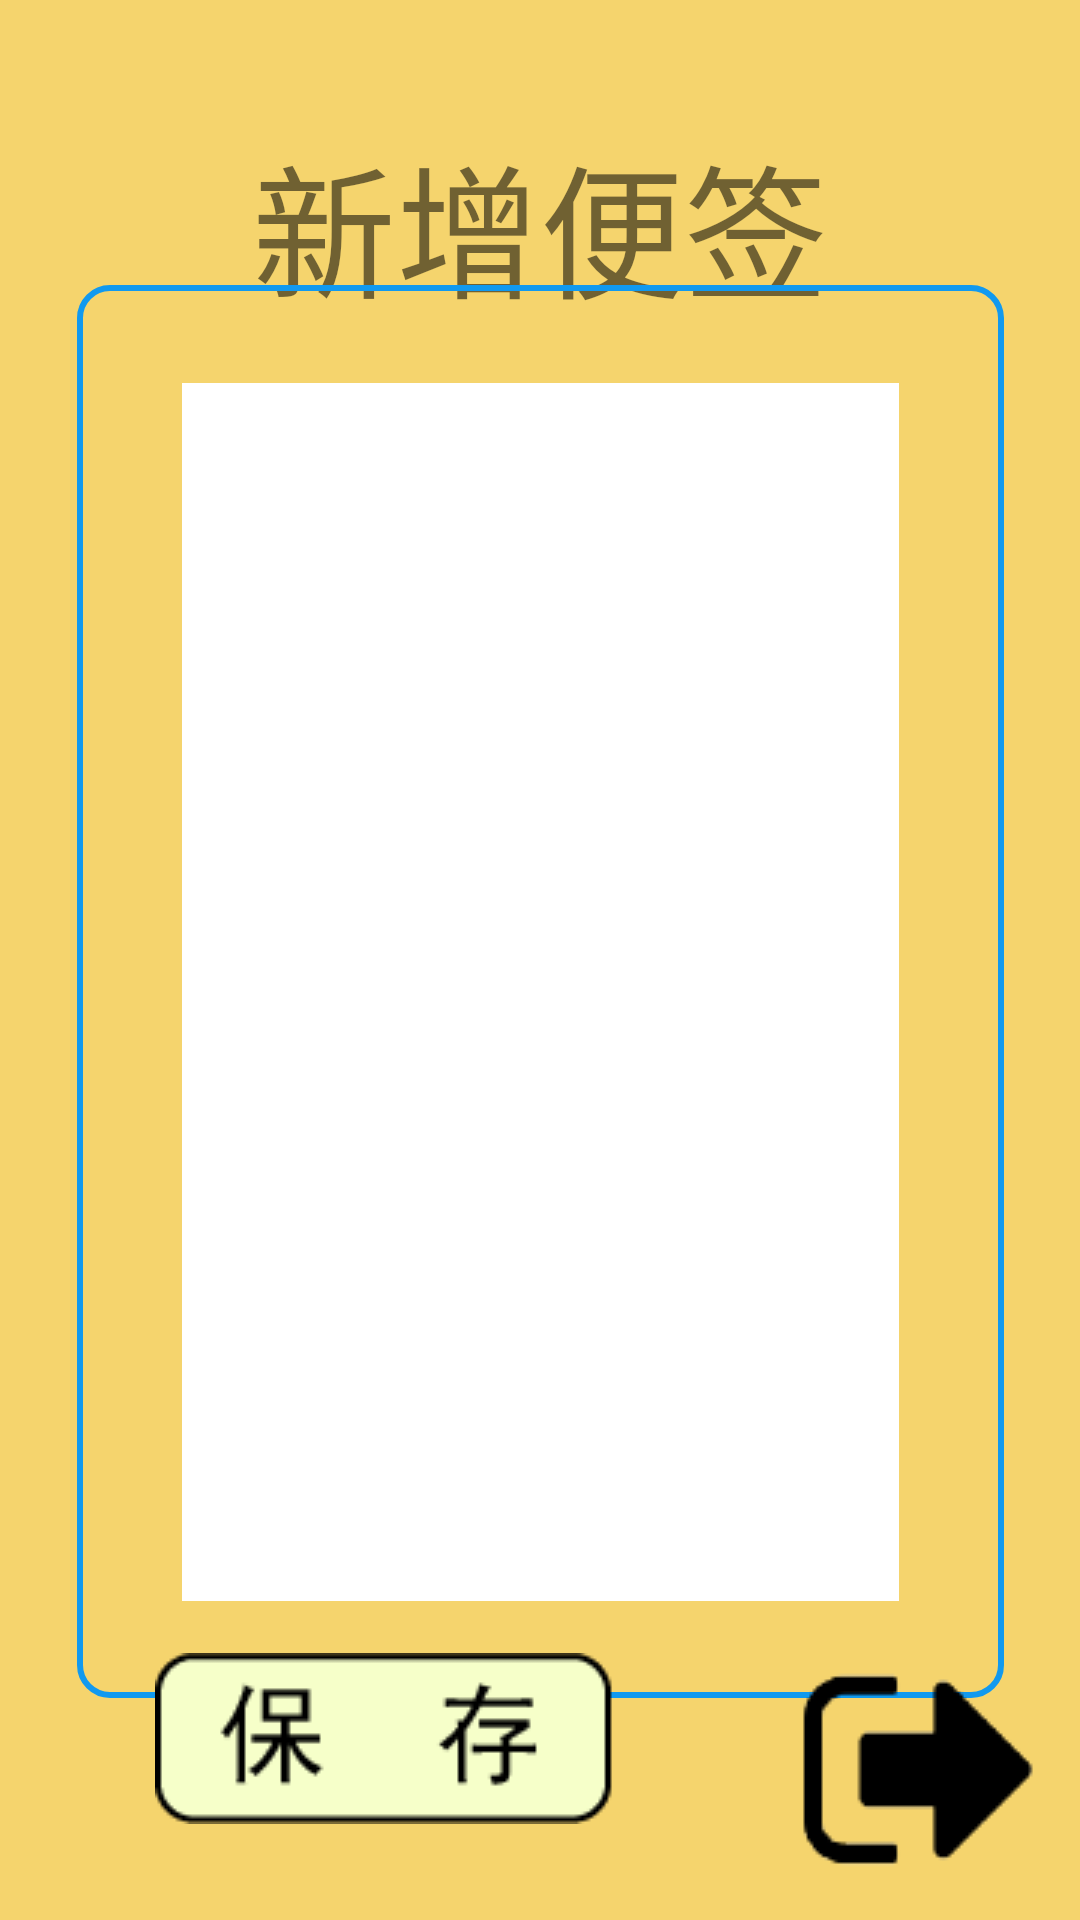

Icon click points for this 1080 x 1920 phone screenshot, format [x,y]:
quit: [900,1742]
